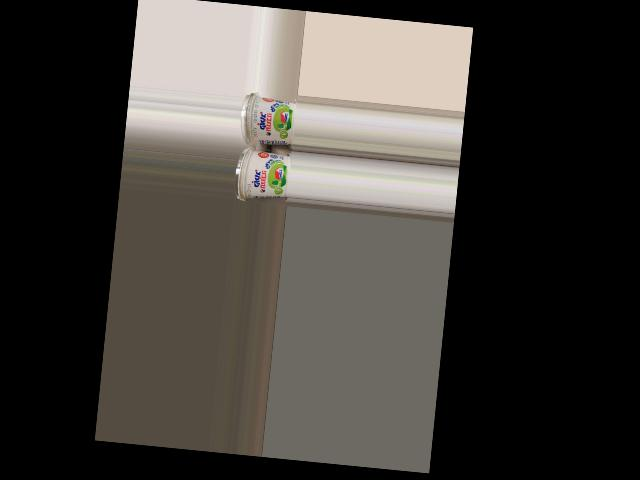cotage: (234, 145, 292, 200)
